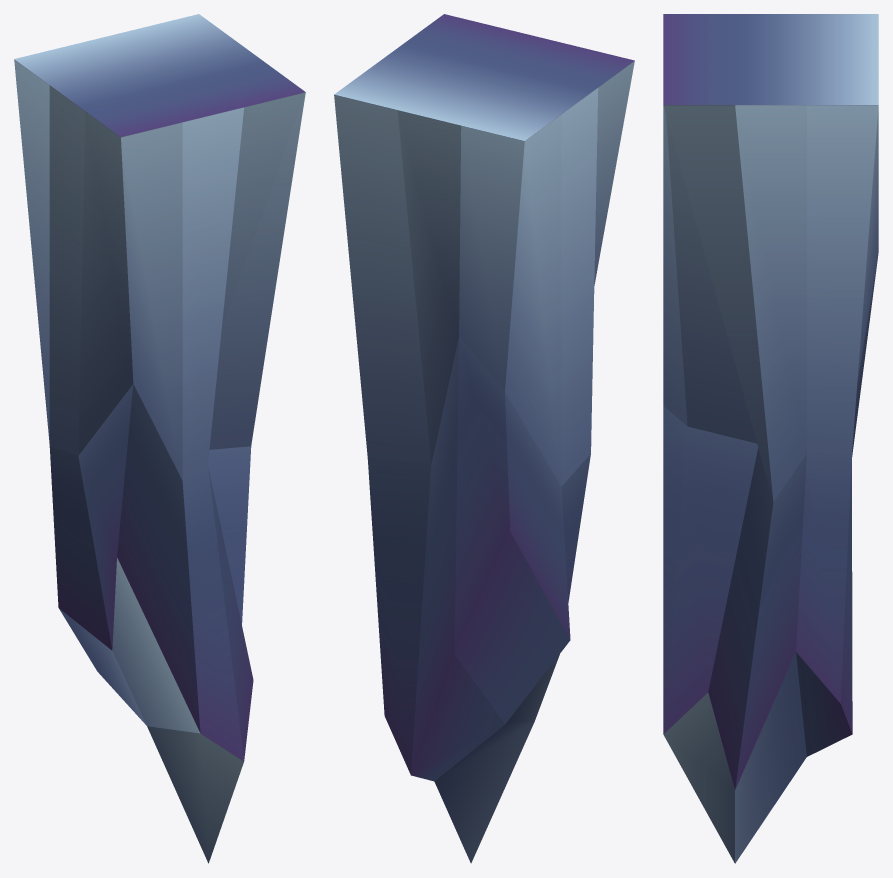
File: block02_Flat.fbx
3 renders of one model, left to right at view 1: azimuth 30°, elevation 25°; view 2: azimuth 150°, elevation 25°; view 3: azimuth 270°, elevation 25°, orthographic. The views are drawn at different scales.
Parts seen in each view (by area): view 1: Cube_3; view 2: Cube_3; view 3: Cube_3.
Part boxes in pixels (<box>): Cube_3: <box>14,14,305,863</box>; Cube_3: <box>334,14,634,863</box>; Cube_3: <box>663,14,878,863</box>.
Size of the model in its own units: 200 by 809 by 200.
Materials: 1 (1 with a texture image).
